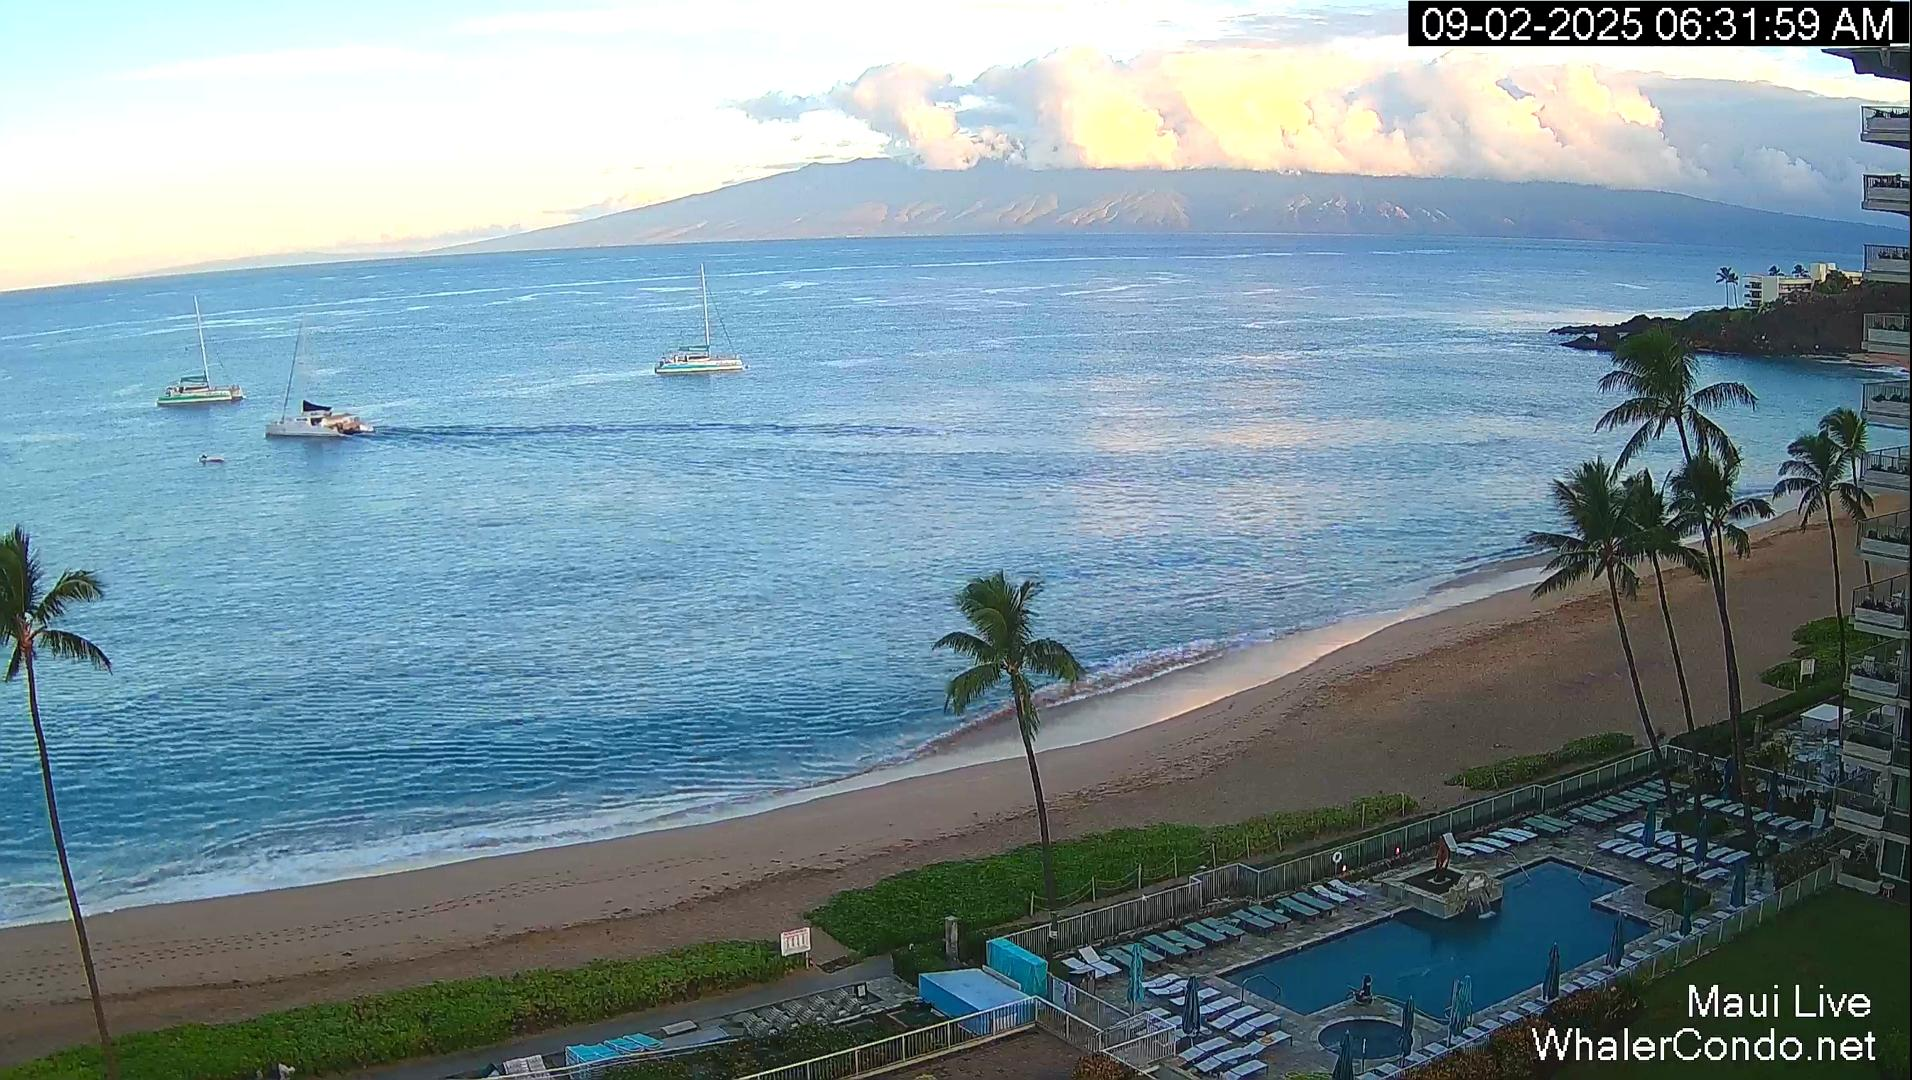boat: (264, 312, 372, 439), (653, 263, 744, 375), (156, 295, 246, 408), (199, 452, 228, 468)
person: (279, 1057, 295, 1080), (1655, 726, 1666, 747)
